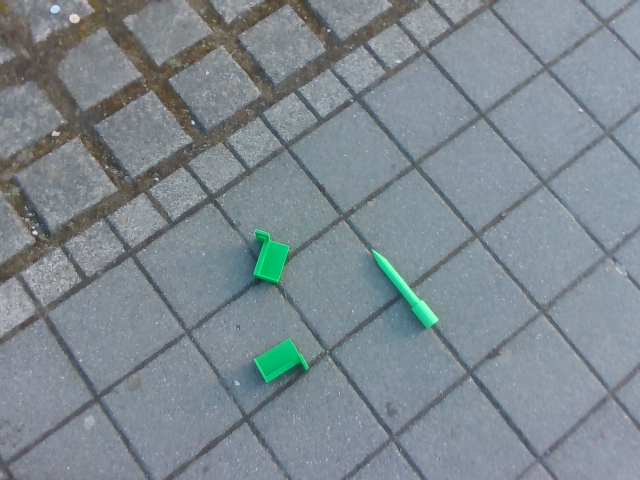Probe: (371, 240, 442, 334)
